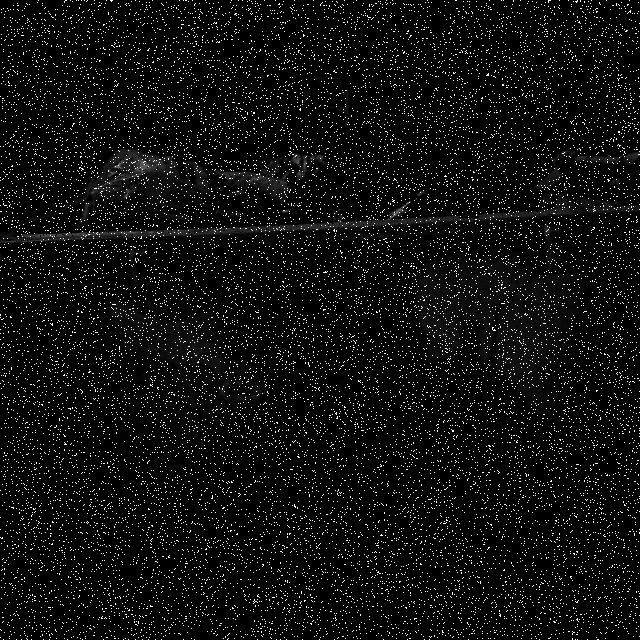Trashcan: (0, 90, 640, 630)
